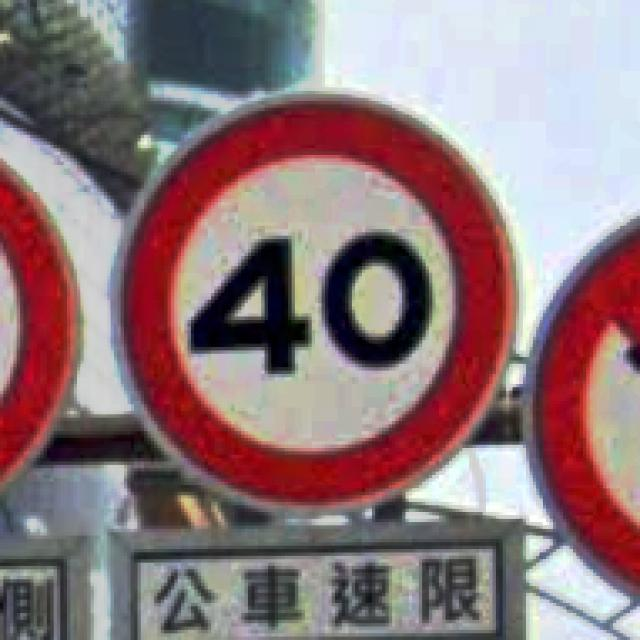max40: (112, 86, 523, 512)
